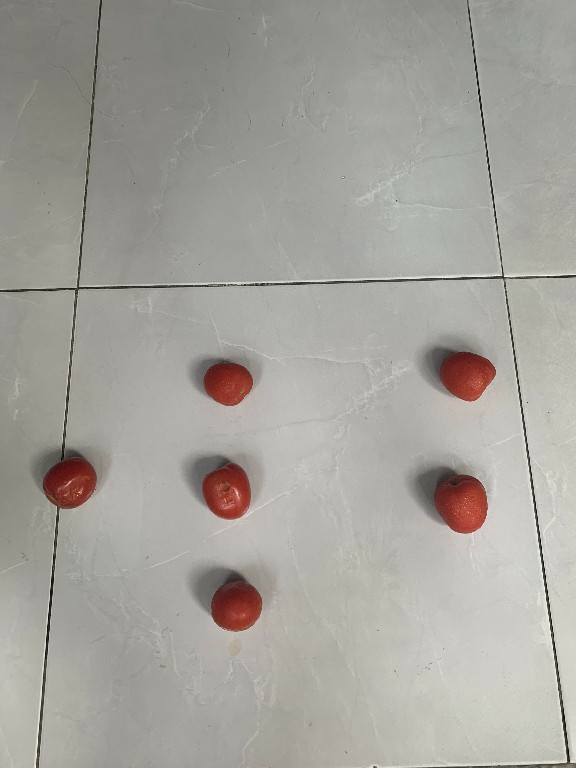NG: (196, 458, 254, 527), (38, 454, 103, 511)
OK: (433, 468, 492, 540), (206, 573, 265, 633), (436, 347, 495, 404), (198, 358, 255, 410)
